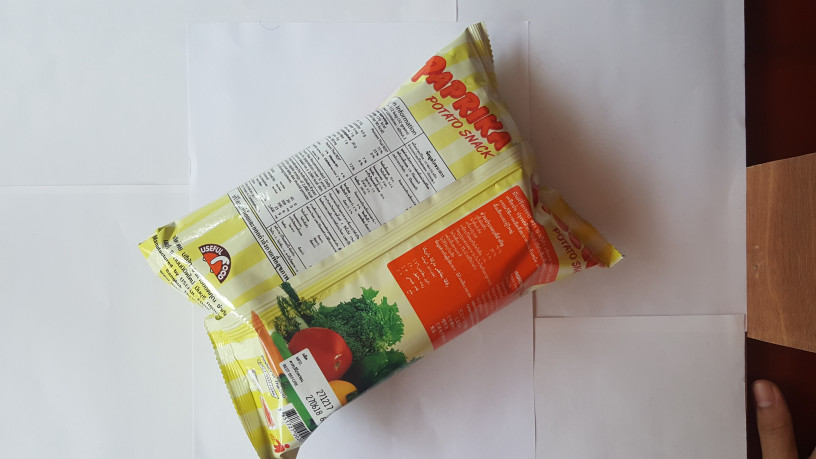paprika: (138, 14, 628, 459)
